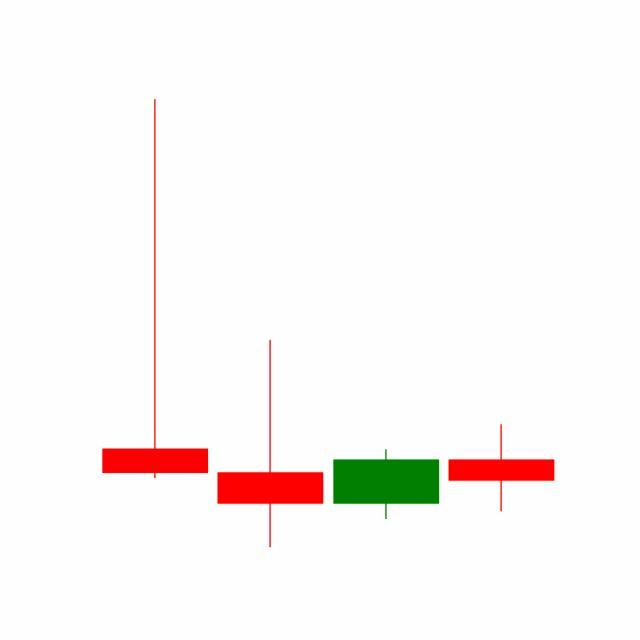Marubozu: (329, 448, 445, 521)
